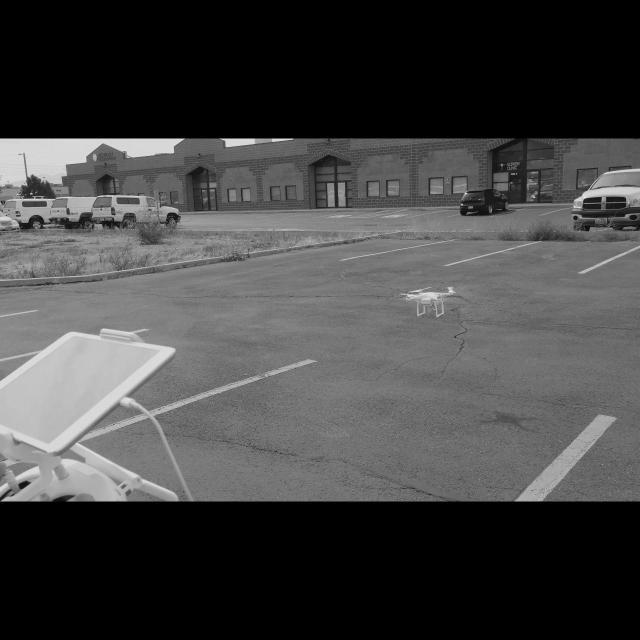Drons: (398, 282, 465, 324)
